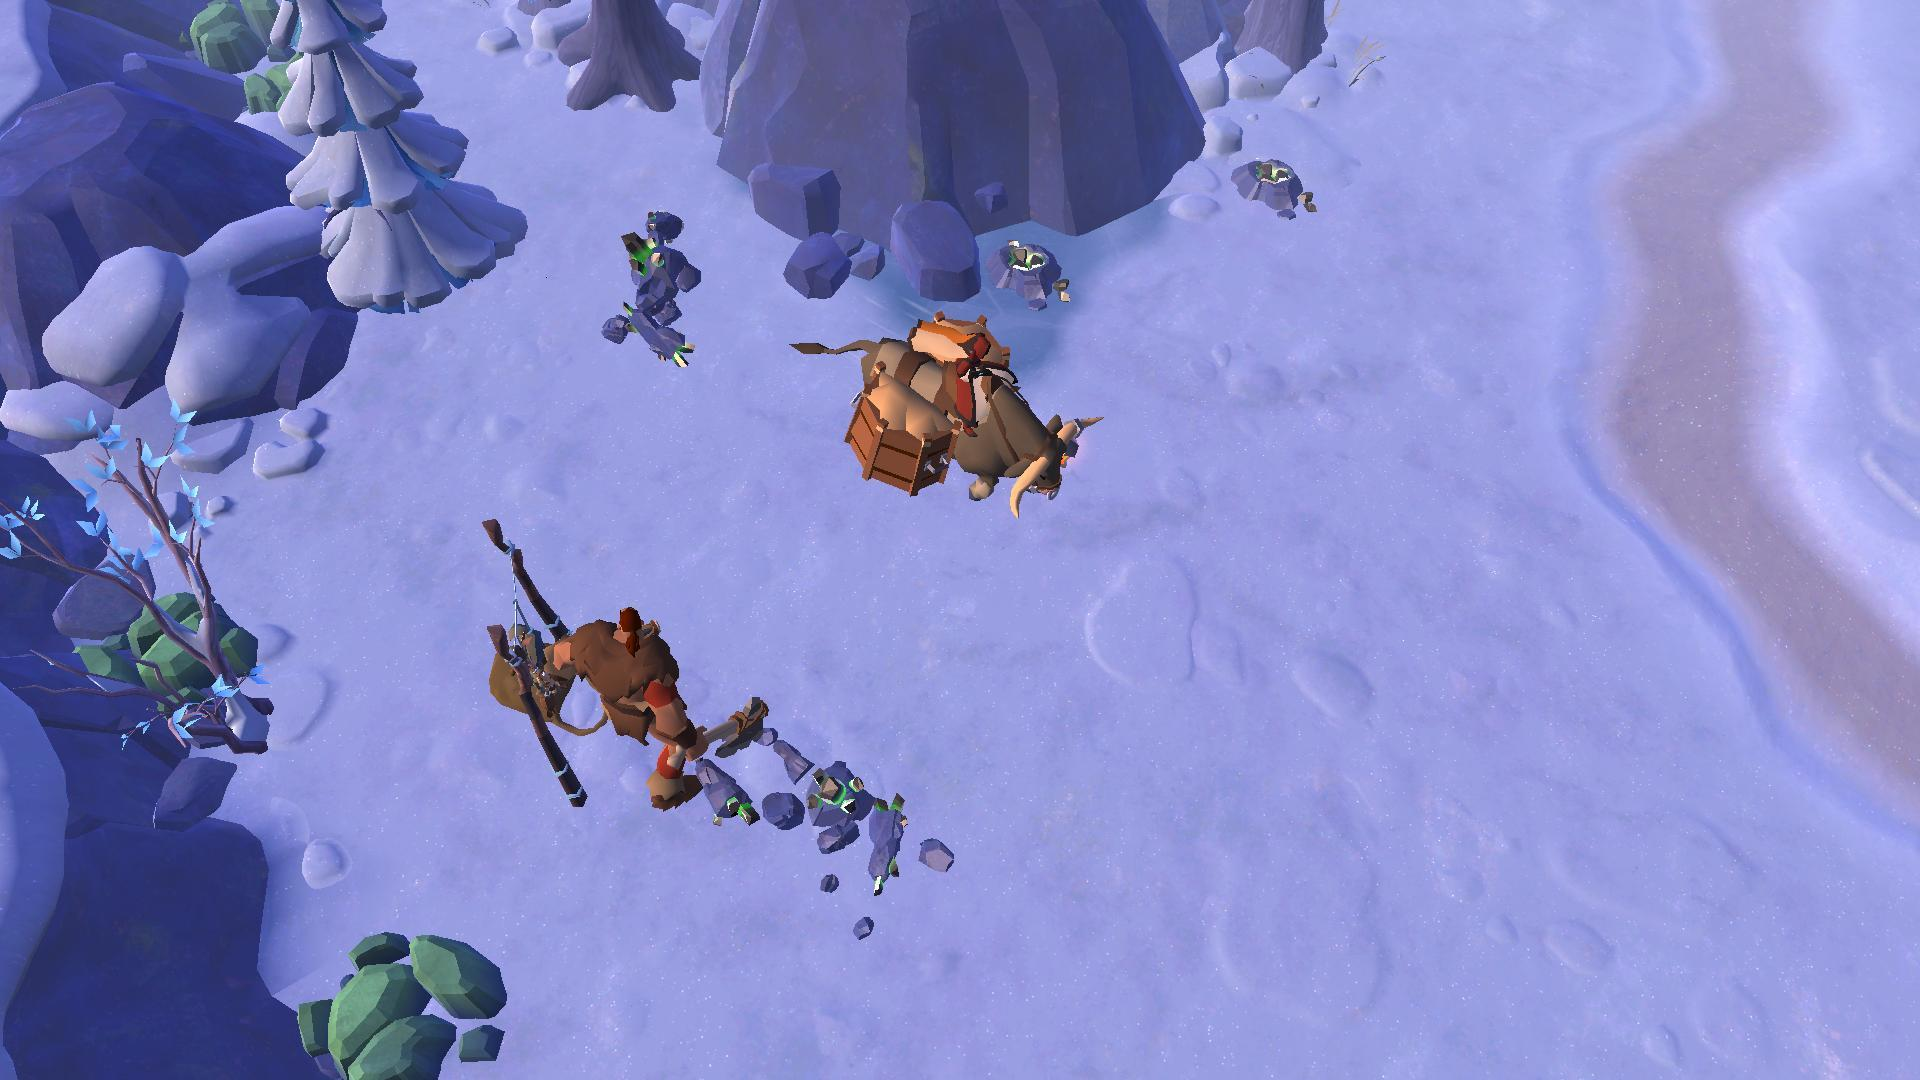enemy_factionKeeper: (541, 607, 770, 810)
rock_t3: (298, 924, 516, 1080), (82, 564, 260, 712), (187, 0, 301, 87), (233, 58, 324, 119)
